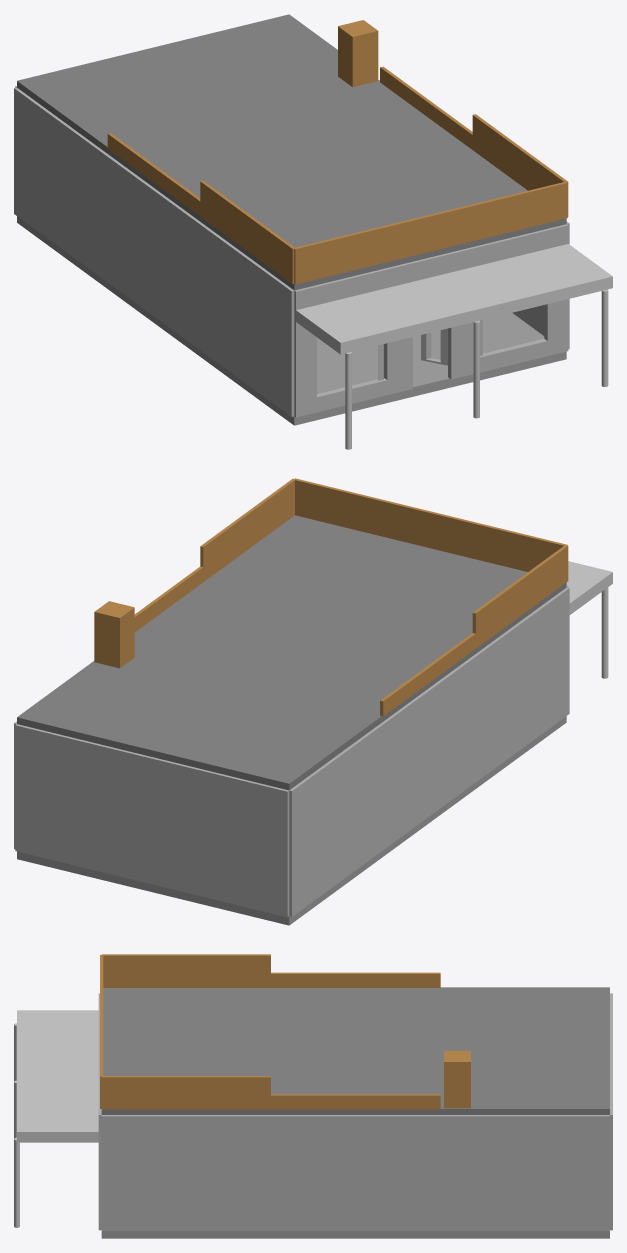
File: building_phase_1a_iter_009.glb
The picture shows the model from 3 angles, top to bottom: view 1: azimuth 30°, elevation 25°; view 2: azimuth 150°, elevation 25°; view 3: azimuth 270°, elevation 25°; orthographic projection. The views are drawn at different scales.
Visible parts, largest first — view 1: Roof, Wall_Left, Canopy_Roof, Wall_Front, Parapet_Front, Foundation, Parapet_Left_Front, Parapet_Right_Front, Chimney, Parapet_Left_Middle, Parapet_Right_Middle, Canopy_Post_3 (+4 smaller); view 2: Roof, Wall_Left, Wall_Rear, Parapet_Front, Foundation, Parapet_Left_Front, Parapet_Right_Front, Chimney, Parapet_Left_Middle, Canopy_Roof, Parapet_Right_Middle, Canopy_Post_1; view 3: Wall_Right, Roof, Canopy_Roof, Parapet_Right_Front, Parapet_Left_Front, Foundation, Parapet_Left_Middle, Parapet_Right_Middle, Chimney, Wall_Front, Wall_Rear, Parapet_Front (+1 smaller).
Boxes of the visible parts, left/top/right/bottom form: Roof: left=17, top=14, right=566, bottom=290; Wall_Left: left=14, top=87, right=294, bottom=416; Canopy_Roof: left=294, top=244, right=612, bottom=354; Wall_Front: left=294, top=224, right=568, bottom=417; Parapet_Front: left=294, top=182, right=567, bottom=284; Foundation: left=17, top=216, right=566, bottom=425; Parapet_Left_Front: left=200, top=180, right=295, bottom=283; Parapet_Right_Front: left=472, top=114, right=568, bottom=216; Chimney: left=338, top=20, right=378, bottom=87; Parapet_Left_Middle: left=107, top=133, right=200, bottom=216; Parapet_Right_Middle: left=380, top=66, right=472, bottom=149; Canopy_Post_3: left=601, top=289, right=608, bottom=386; Roof: left=17, top=515, right=566, bottom=790; Wall_Left: left=289, top=587, right=569, bottom=916; Wall_Rear: left=15, top=724, right=289, bottom=917; Parapet_Front: left=295, top=478, right=567, bottom=571; Foundation: left=17, top=716, right=566, bottom=925; Parapet_Left_Front: left=472, top=545, right=568, bottom=648; Parapet_Right_Front: left=200, top=478, right=295, bottom=581; Chimney: left=94, top=601, right=134, bottom=668; Parapet_Left_Middle: left=380, top=633, right=475, bottom=716; Canopy_Roof: left=566, top=561, right=612, bottom=614; Parapet_Right_Middle: left=134, top=566, right=203, bottom=632; Canopy_Post_1: left=601, top=587, right=608, bottom=678; Wall_Right: left=101, top=1115, right=609, bottom=1231; Roof: left=101, top=987, right=609, bottom=1114; Canopy_Roof: left=17, top=1010, right=101, bottom=1142; Parapet_Right_Front: left=101, top=1076, right=270, bottom=1109; Parapet_Left_Front: left=101, top=954, right=270, bottom=987; Foundation: left=101, top=1231, right=609, bottom=1238; Parapet_Left_Middle: left=271, top=972, right=440, bottom=987; Parapet_Right_Middle: left=271, top=1094, right=440, bottom=1109; Chimney: left=444, top=1050, right=470, bottom=1108; Wall_Front: left=98, top=993, right=101, bottom=1230; Wall_Rear: left=610, top=993, right=612, bottom=1230; Parapet_Front: left=100, top=955, right=103, bottom=1108.
Bounding box in the file's own units: 8.68 × 5.73 × 17.68.
